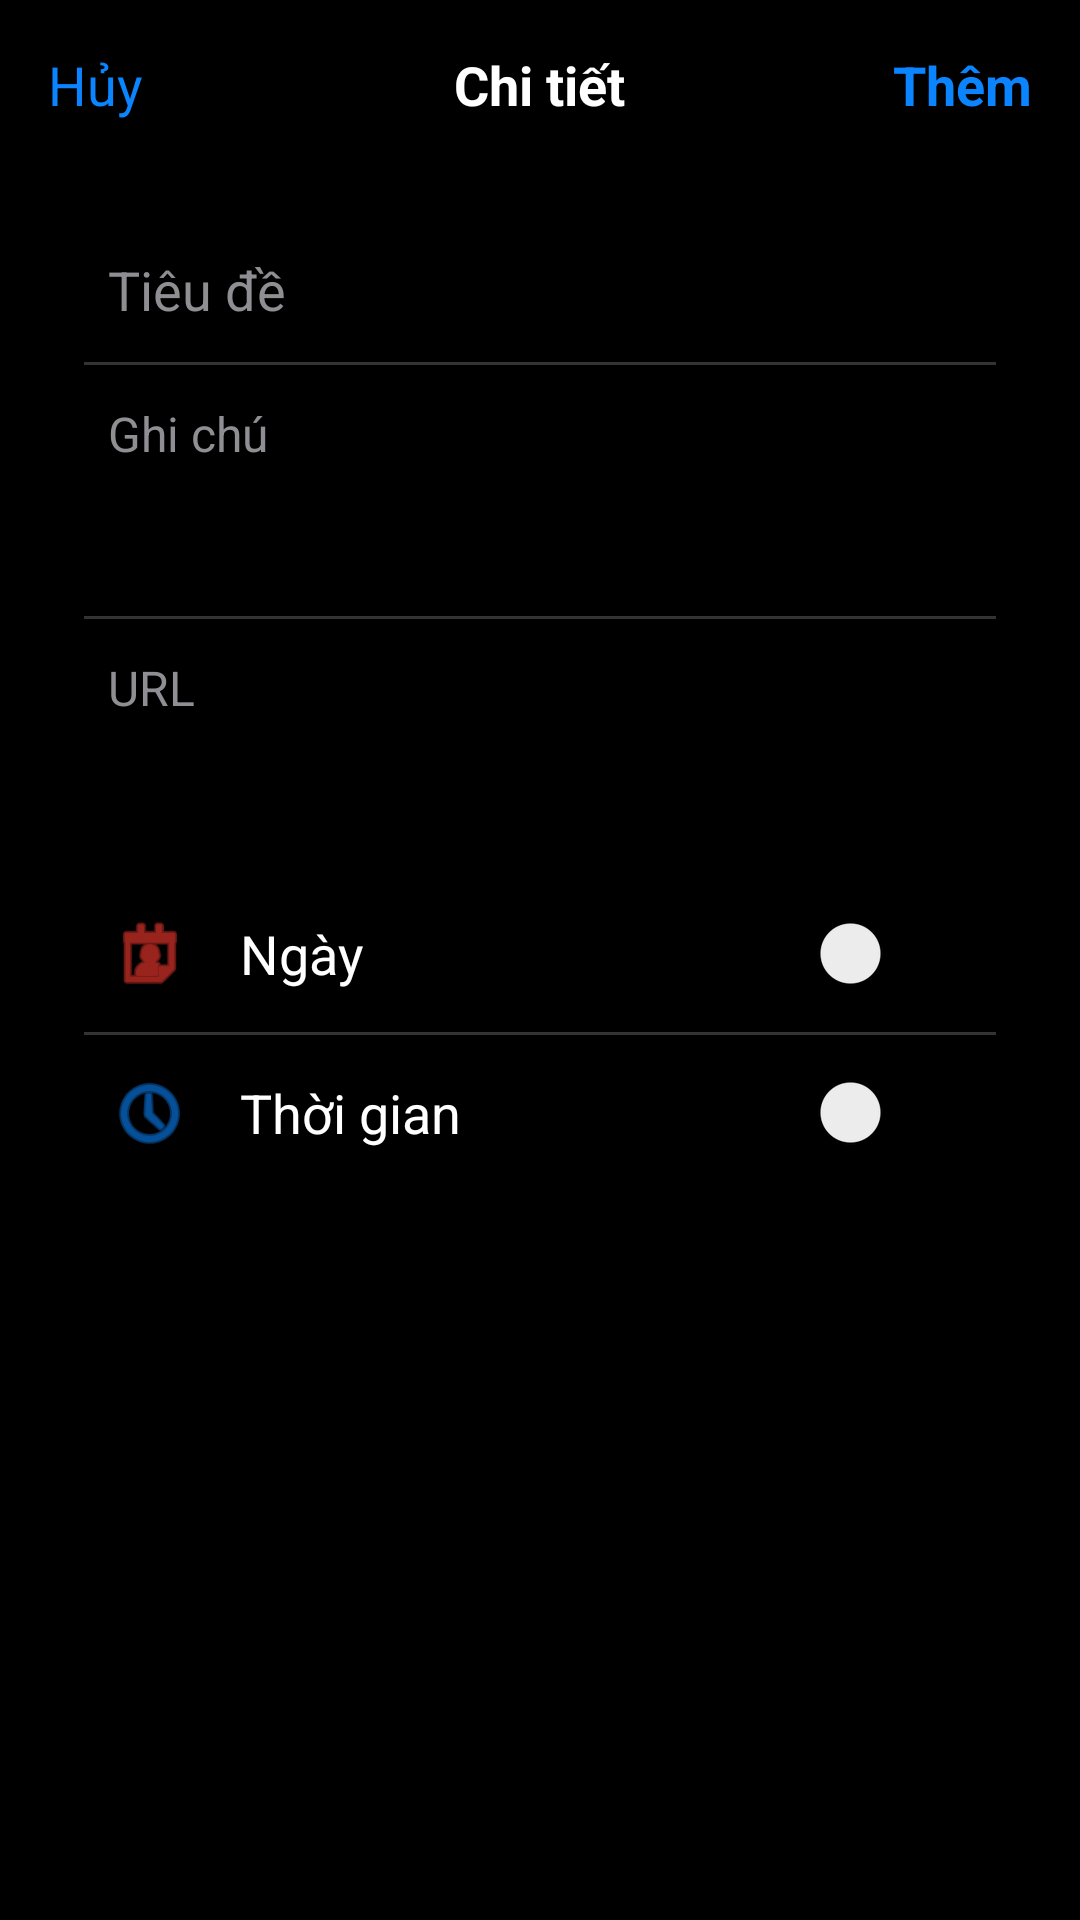

Icons on this 1080*1920 Android screen, each with its box as (x1, y1, x2, y2):
calendar: (123, 922, 177, 984)
recent history: (119, 1083, 180, 1144)
